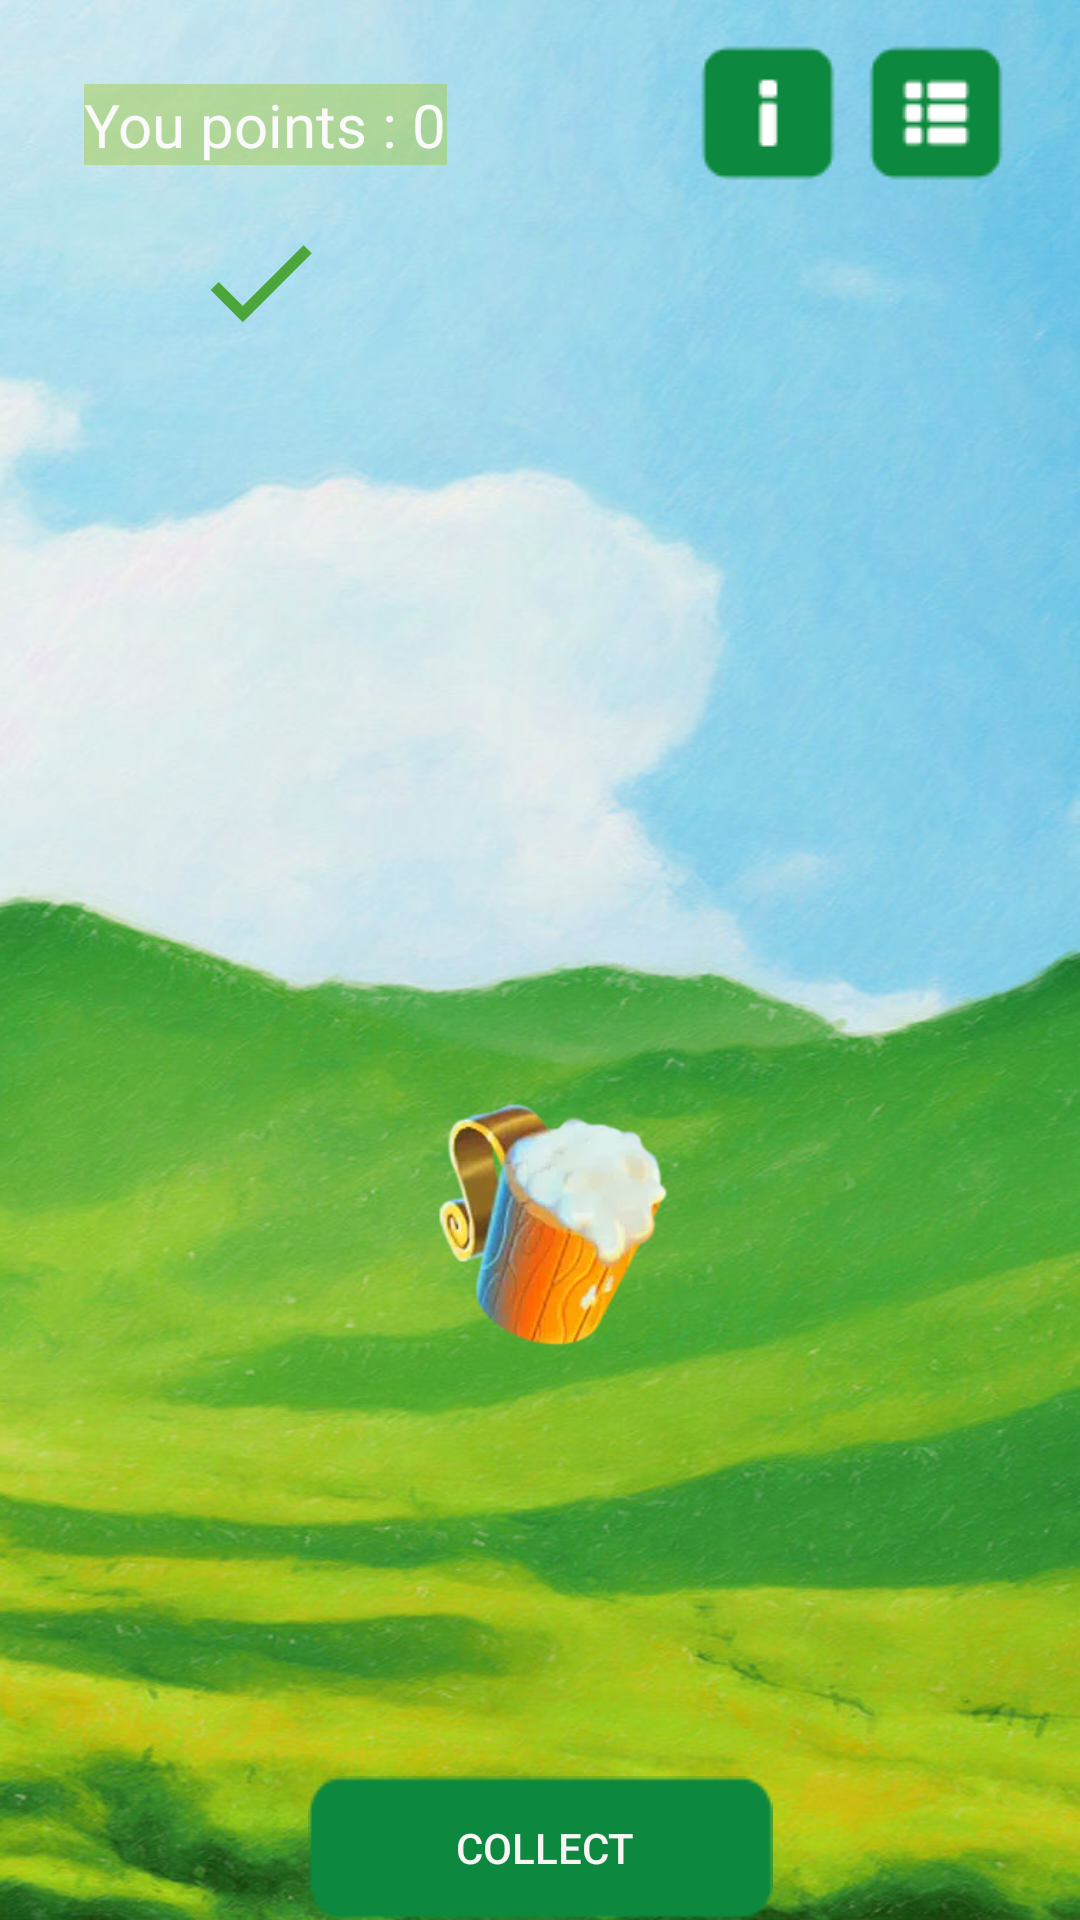

Screen size 1080w x 1920h. Icon name, then its center in pixels as point (x, y):
check: point (252, 283)
